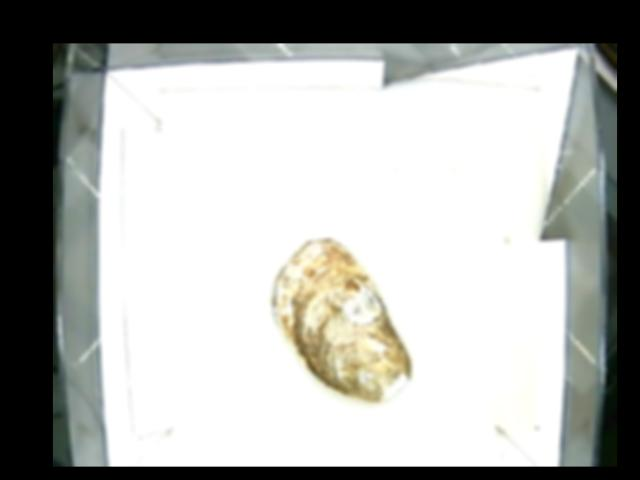Shell: (275, 237, 414, 398)
